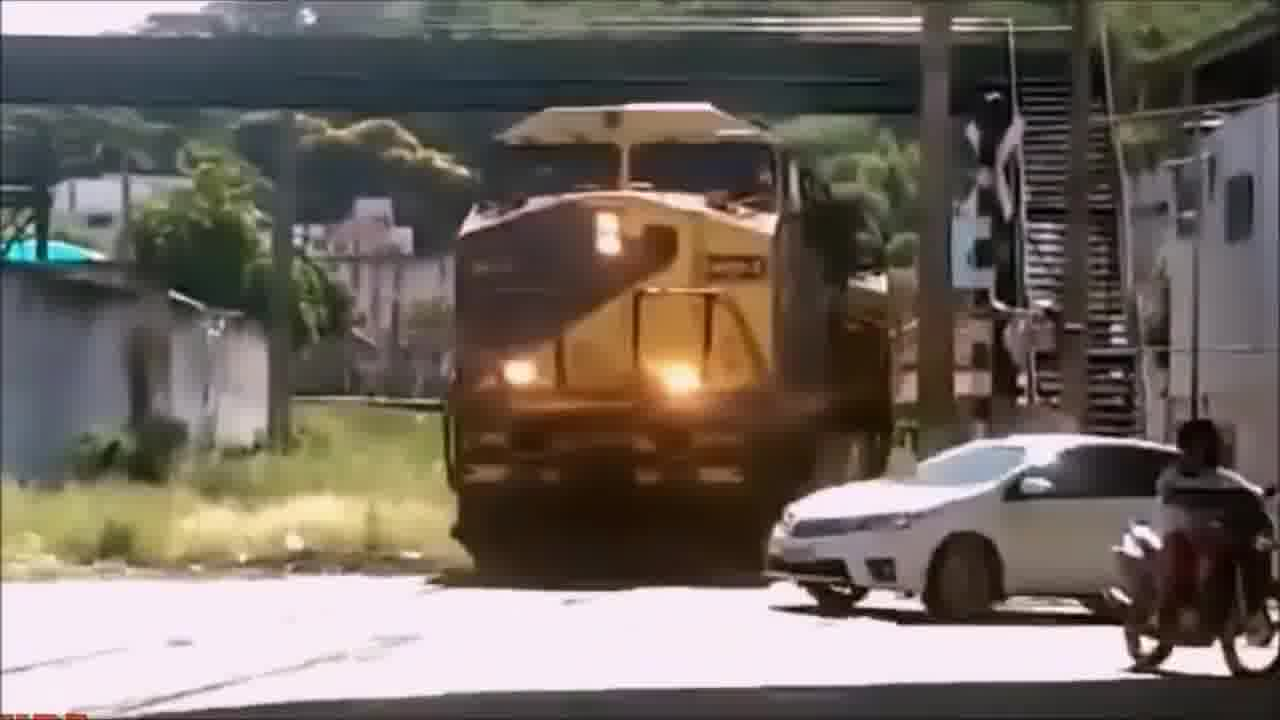crossing railway track: (750, 420, 1280, 635)
